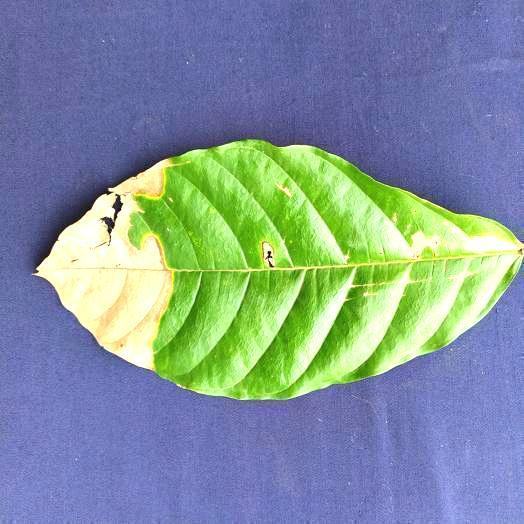Potassium: (36, 140, 523, 399)
